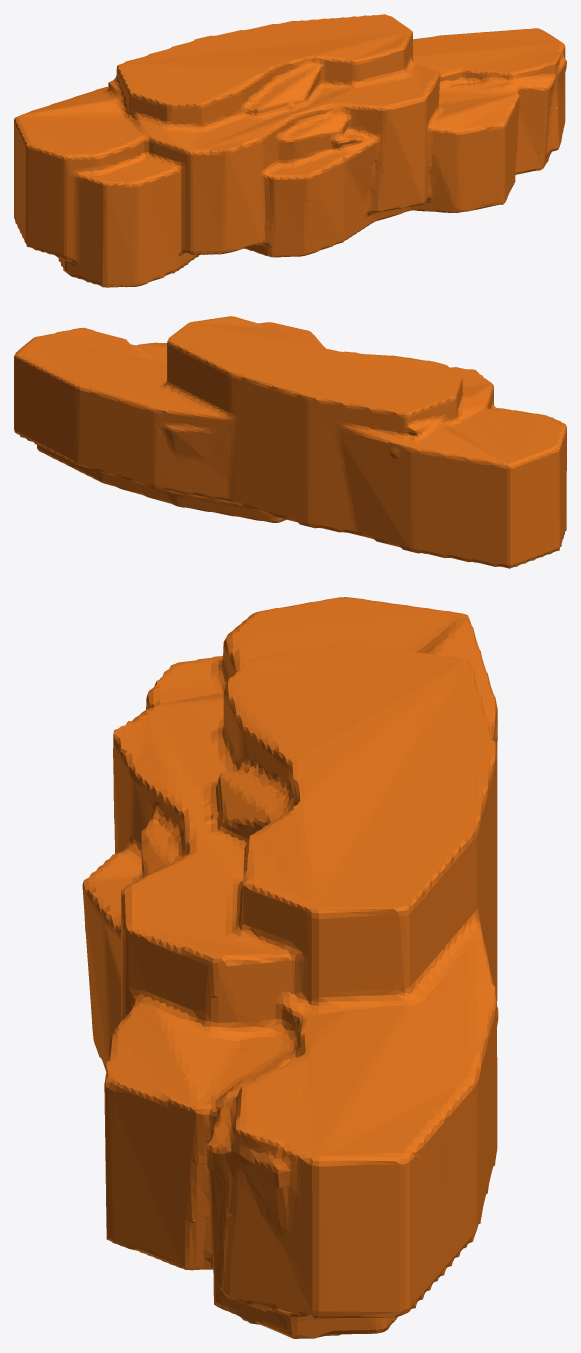
File: mountain.fbx
3 views of the same model, one above another, from view 1: azimuth 30°, elevation 25°; view 2: azimuth 150°, elevation 25°; view 3: azimuth 270°, elevation 25° (orthographic). The views are drawn at different scales.
Parts seen in each view (by area): view 1: Vert.006; view 2: Vert.006; view 3: Vert.006.
Boxes of the visible parts, bbox=[...] form: Vert.006: bbox=[14, 14, 566, 287]; Vert.006: bbox=[14, 316, 566, 568]; Vert.006: bbox=[82, 597, 498, 1338].
Size of the model in its own units: 1708 by 466 by 579.
